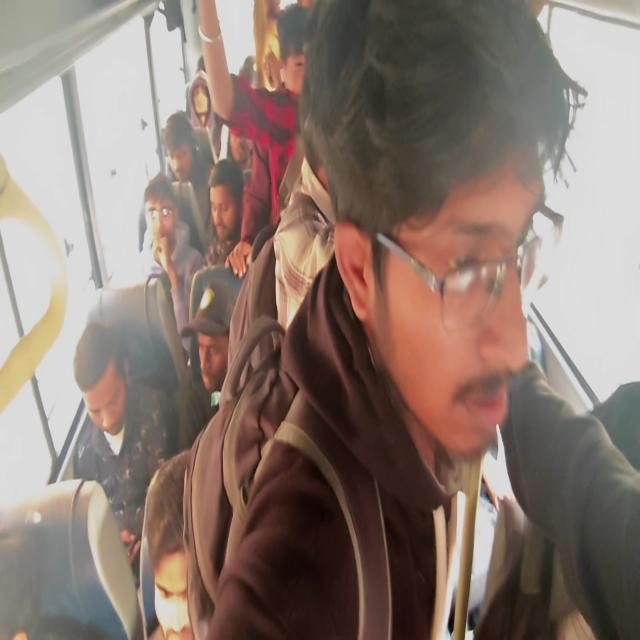person: (203, 0, 586, 638), (498, 359, 640, 638), (197, 0, 310, 276), (72, 316, 179, 575), (137, 173, 205, 362), (138, 449, 195, 638), (181, 279, 236, 412), (161, 111, 212, 235), (202, 157, 245, 271)
